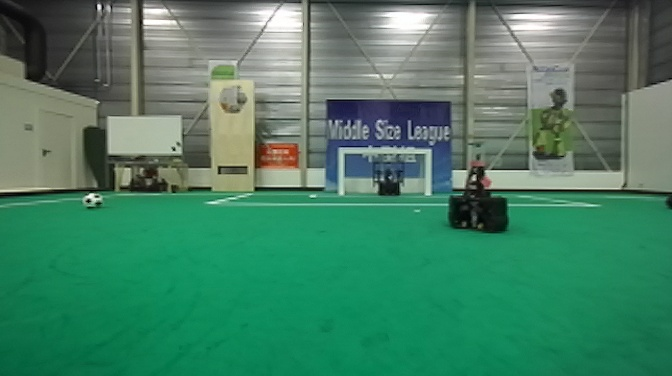ball: (79, 190, 107, 212)
goal: (335, 145, 433, 199)
goalpost: (335, 145, 346, 198), (422, 147, 433, 198)
robot: (445, 139, 511, 236), (370, 159, 406, 198)
